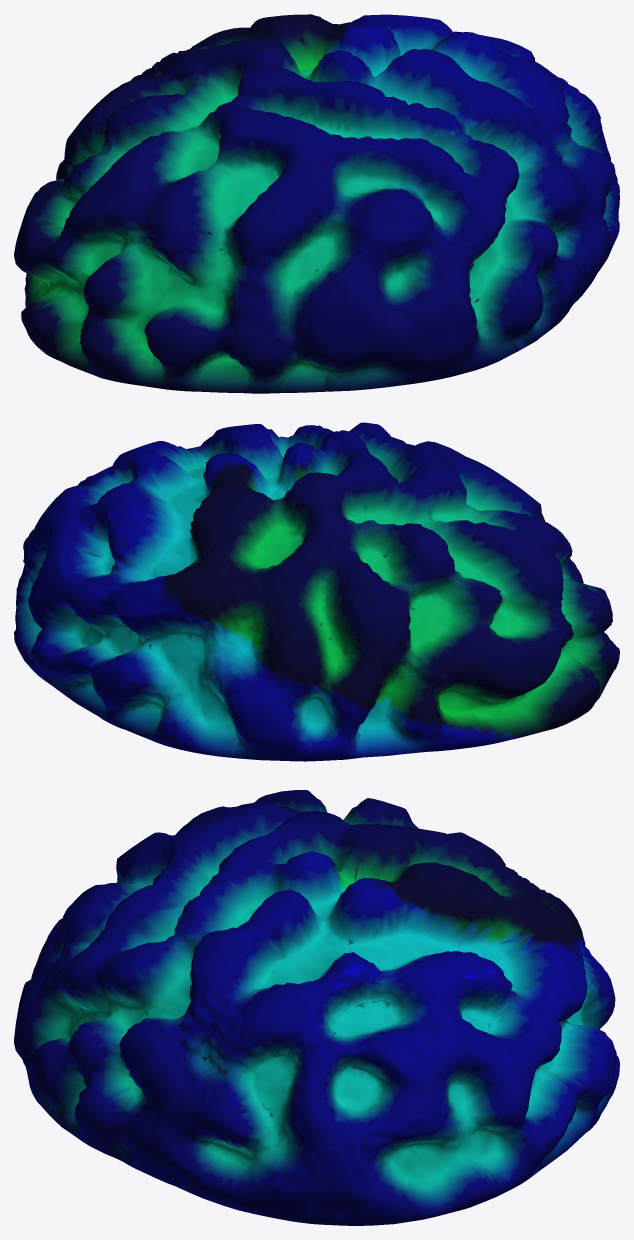
The model's file is reef-brain-fleshy-lobophyllia.glb.
3 views of the same model, one above another, from view 1: azimuth 30°, elevation 25°; view 2: azimuth 150°, elevation 25°; view 3: azimuth 270°, elevation 25° (orthographic). The views are drawn at different scales.
Visible parts, largest first — view 1: Reef_Brain_Fleshy_Lobophyllia; view 2: Reef_Brain_Fleshy_Lobophyllia; view 3: Reef_Brain_Fleshy_Lobophyllia.
Boxes of the visible parts, x1,y1,x2,y2 form: Reef_Brain_Fleshy_Lobophyllia: [14, 14, 619, 393]; Reef_Brain_Fleshy_Lobophyllia: [14, 422, 619, 761]; Reef_Brain_Fleshy_Lobophyllia: [14, 790, 619, 1225].
Size of the model in its own units: 0.1997 by 0.078 by 0.1669.
1 material, 1 textured.
